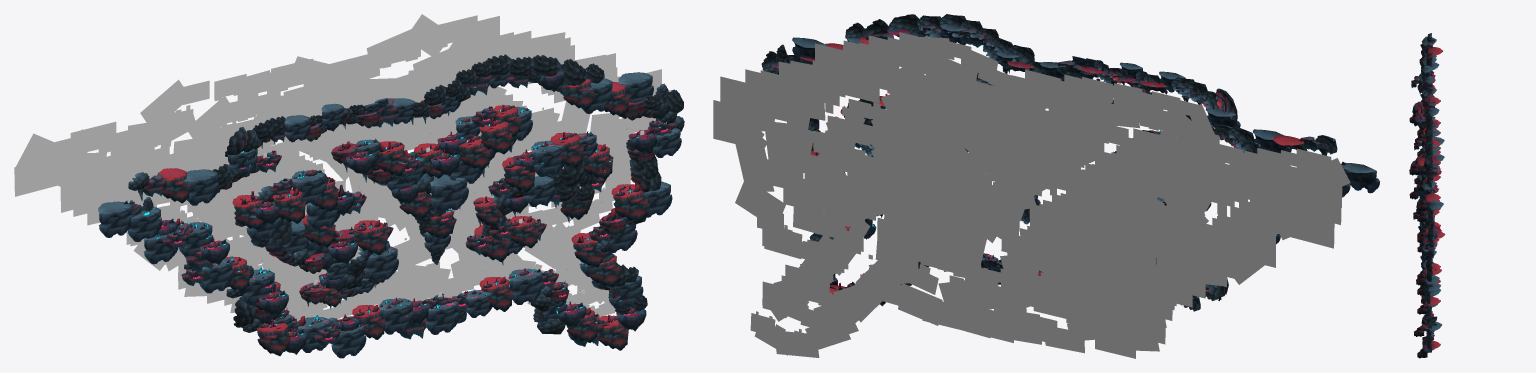
File: Level5_Export.fbx
The picture shows the model from 3 angles, left to right: view 1: azimuth 30°, elevation 25°; view 2: azimuth 150°, elevation 25°; view 3: azimuth 270°, elevation 25°; orthographic projection. The views are drawn at different scales.
Visible parts, largest first — view 1: Background, Mid, Far, Active, Plane.401, Plane.506, Plane.016, Plane.025, Plane.239, Plane.211, Plane.418, Plane.229 (+53 smaller); view 2: Far, Background, Mid, Plane.016; view 3: Plane.460, Plane.540, Plane.506, Plane.468, Plane.651, Plane.621, Plane.624, Plane.027, Plane.546, Plane.459, Plane.539, Plane.564 (+5 smaller).
Boxes of the visible parts, <box> form: Background: <box>60,29,661,312</box>; Mid: <box>88,53,674,321</box>; Far: <box>14,14,615,303</box>; Active: <box>124,83,660,333</box>; Plane.401: <box>430,174,468,212</box>; Plane.506: <box>611,184,648,222</box>; Plane.016: <box>98,201,133,237</box>; Plane.025: <box>184,169,219,205</box>; Plane.239: <box>509,268,543,304</box>; Plane.211: <box>379,298,413,334</box>; Plane.418: <box>531,140,564,176</box>; Plane.229: <box>354,220,387,255</box>; Far: <box>713,59,1334,358</box>; Background: <box>720,35,1341,327</box>; Mid: <box>745,32,1350,305</box>; Plane.016: <box>1341,162,1379,193</box>; Plane.460: <box>1417,193,1440,210</box>; Plane.540: <box>1417,297,1440,314</box>; Plane.506: <box>1416,266,1441,285</box>; Plane.468: <box>1427,200,1443,221</box>; Plane.651: <box>1409,153,1424,174</box>; Plane.621: <box>1423,275,1439,296</box>; Plane.624: <box>1425,283,1440,304</box>; Plane.027: <box>1419,47,1442,63</box>; Plane.546: <box>1425,322,1441,342</box>; Plane.459: <box>1421,181,1436,200</box>; Plane.539: <box>1414,322,1427,336</box>; Plane.564: <box>1417,341,1440,358</box>.
Bounding box in the file's own units: 23921 × 11725 × 5935.
